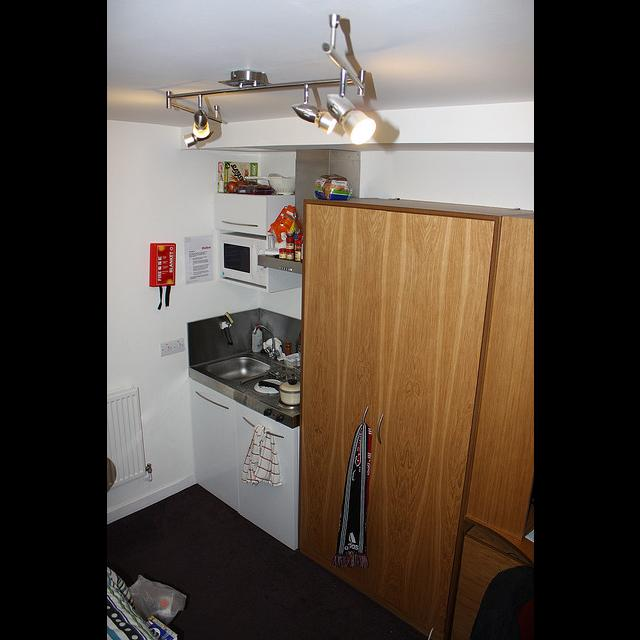Microwave: (219, 232, 266, 287)
